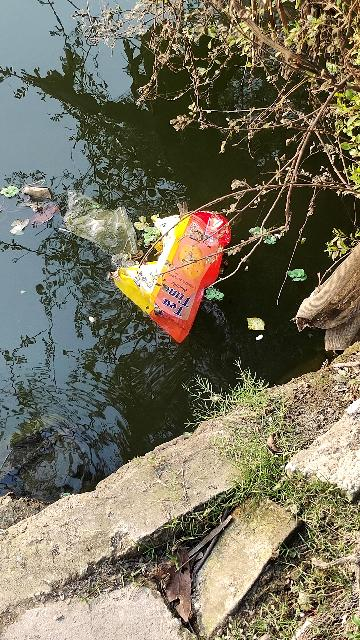packet: (110, 215, 238, 345)
